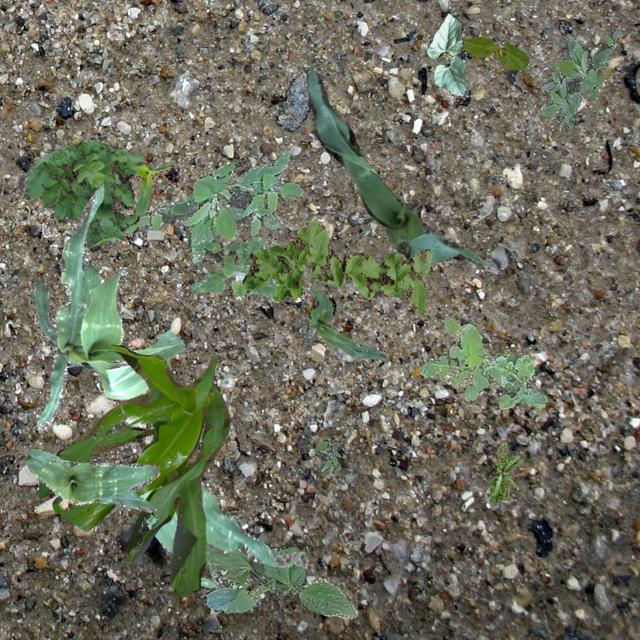crop: (38, 344, 228, 596), (306, 70, 494, 268), (33, 182, 184, 428), (138, 392, 306, 586), (204, 542, 356, 618), (23, 448, 158, 512), (300, 288, 388, 360), (122, 158, 174, 234), (424, 12, 466, 96), (462, 36, 528, 70)
weed: (134, 152, 302, 264), (242, 218, 432, 314), (24, 138, 142, 248), (420, 316, 546, 408), (538, 29, 618, 130), (188, 236, 274, 298), (488, 444, 522, 504), (312, 440, 340, 474)
